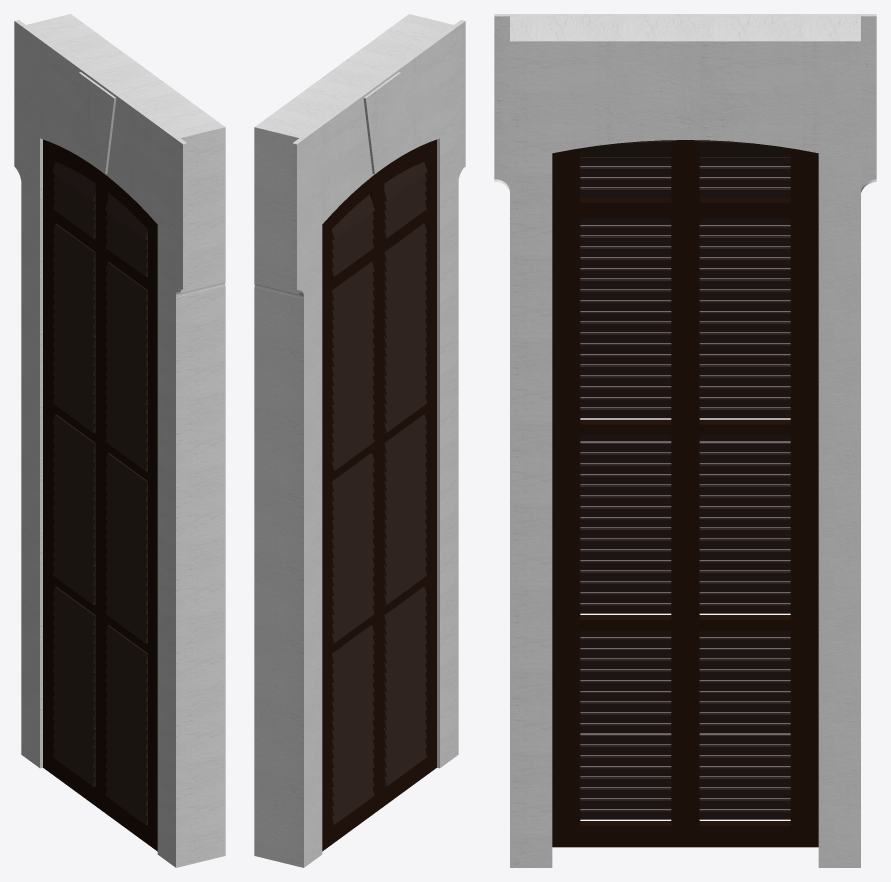
Rendered from 雙葉門 20210626.gltf.
The picture shows the model from 3 angles, left to right: view 1: azimuth 30°, elevation 25°; view 2: azimuth 150°, elevation 25°; view 3: azimuth 270°, elevation 25°; orthographic projection. The views are drawn at different scales.
Parts seen in each view (by area): view 1: root; view 2: root; view 3: root.
Part boxes in pixels (<box>): root: <box>14,14,225,867</box>; root: <box>254,14,465,867</box>; root: <box>494,14,876,867</box>.
Bounding box in the file's own units: 0.23 × 3.1 × 1.3.
Materials: 4 (1 with a texture image).
